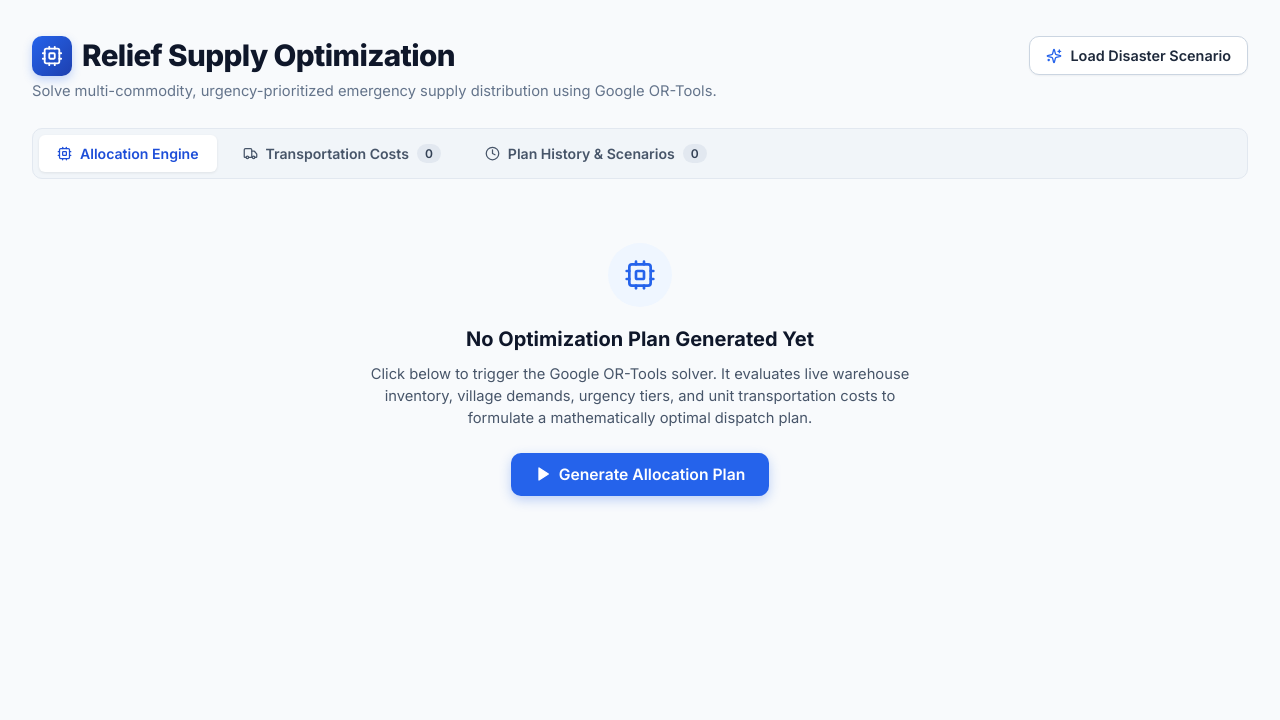
Test: Optimization Engine Page (OptimizationPage.jsx) › Transportation Matrix Batch Grid › clicking Cancel exits batch edit mode without saving
The width and height of the screenshot is (1280, 720).
Click the button "Transportation Costs 0".
click(342, 153)  # box x1=225 y1=134 x2=459 y2=172
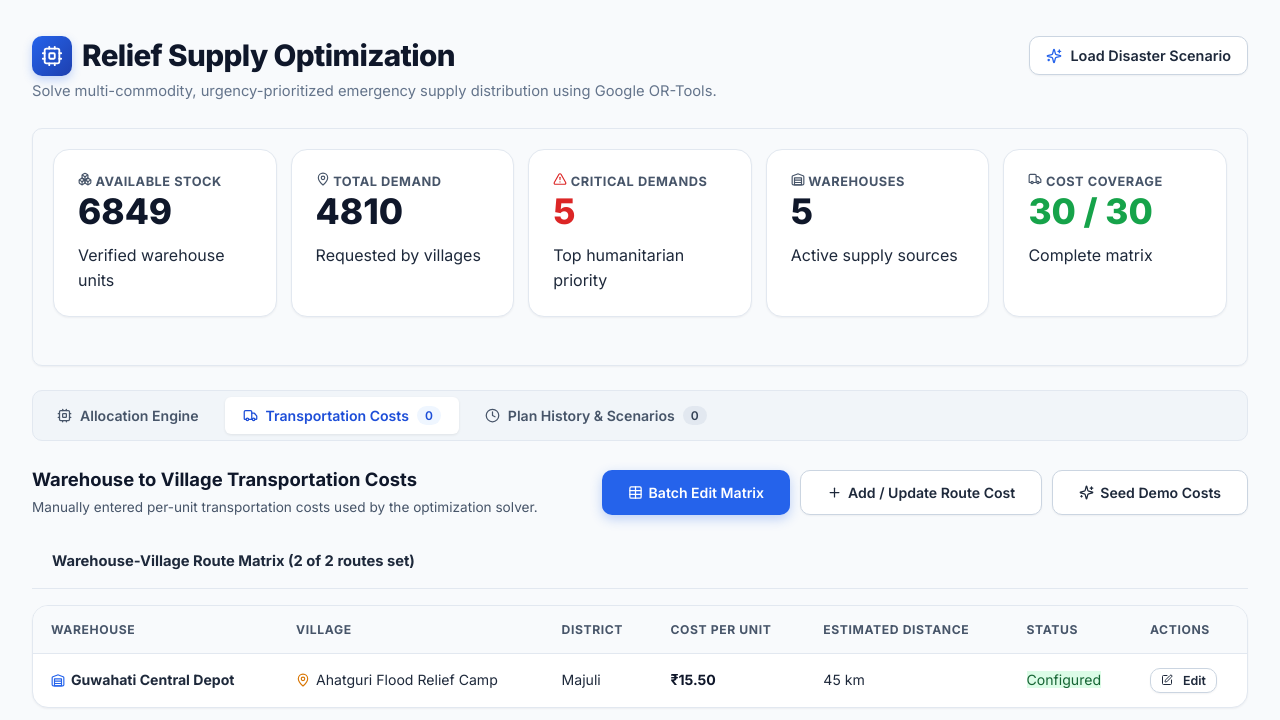
Now the text "Warehouse-Village Route Matrix (2 of 2 routes set)" is shown, box x1=52 y1=550 x2=415 y2=574
Click the button "Batch Edit Matrix".
click(696, 492)  # box x1=602 y1=470 x2=790 y2=515
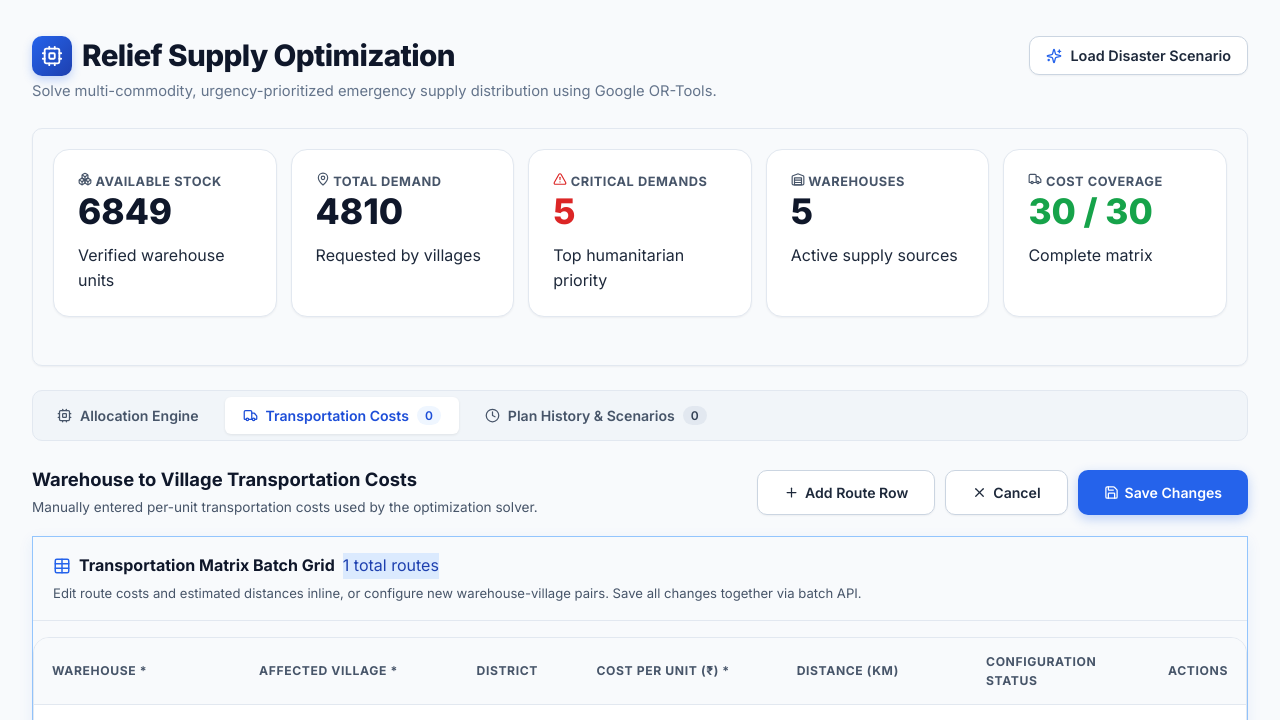
Now the heading "Transportation Matrix Batch Grid" is shown, box x1=79 y1=553 x2=335 y2=579
Click the button "Cancel".
click(1006, 492)  # box x1=945 y1=470 x2=1068 y2=515
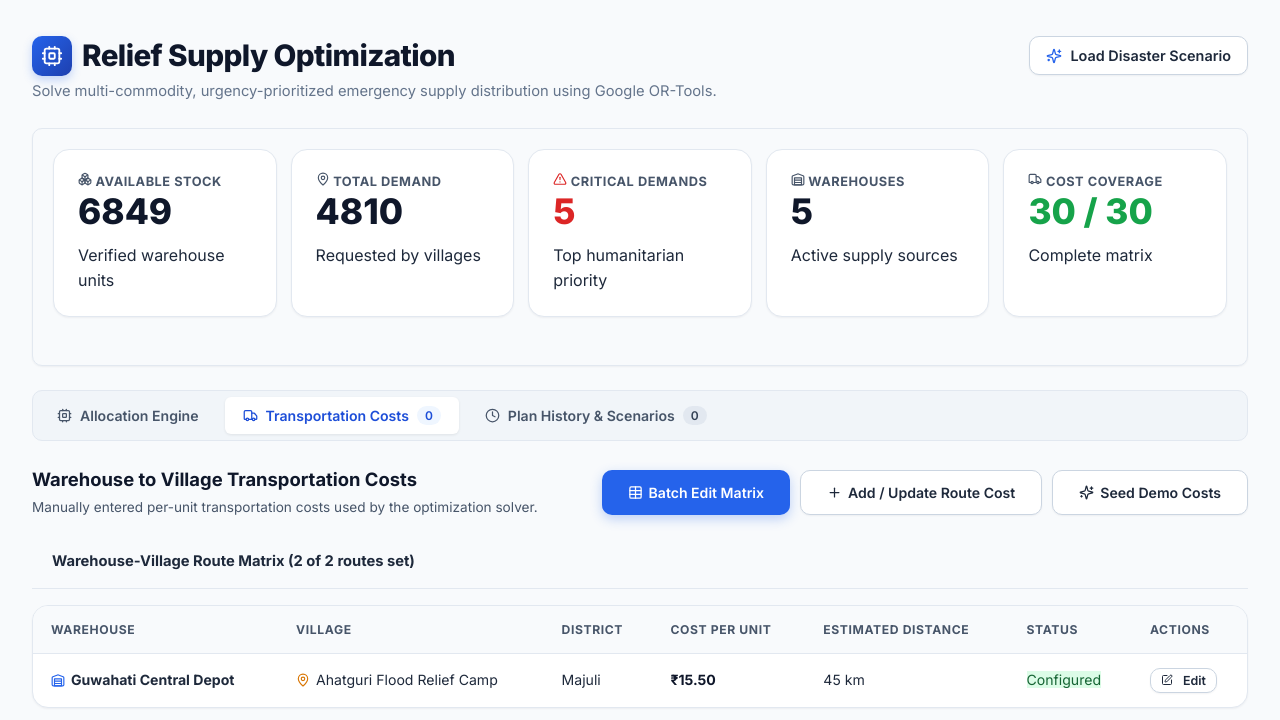
Now the heading "Transportation Matrix Batch Grid" is gone
Now the button "Batch Edit Matrix" is shown, box x1=602 y1=470 x2=790 y2=515
